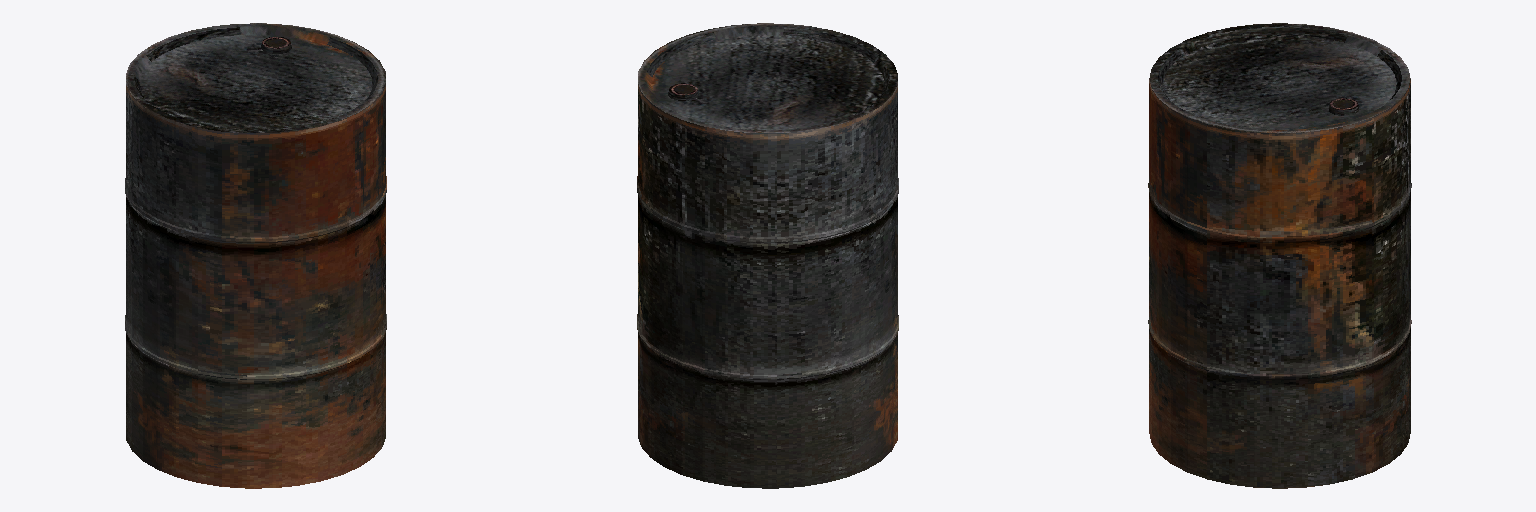
3 renders of one model, left to right at view 1: azimuth 30°, elevation 25°; view 2: azimuth 150°, elevation 25°; view 3: azimuth 270°, elevation 25°, orthographic.
Visible parts, largest first — view 1: Cylinder; view 2: Cylinder; view 3: Cylinder.
Boxes of the visible parts, box(x1,y1,x2,y2) form: Cylinder: box(125, 23, 386, 488); Cylinder: box(637, 23, 898, 488); Cylinder: box(1148, 23, 1411, 488).
Size of the model in its own units: 3.02 by 4.5 by 3.02.
1 materials, 1 textured.